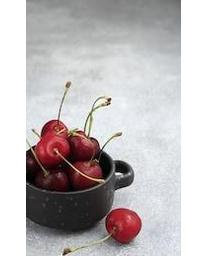cherry: (105, 208, 142, 244), (35, 135, 70, 166), (68, 129, 100, 162), (69, 160, 102, 188), (36, 170, 67, 190), (42, 120, 68, 143)
